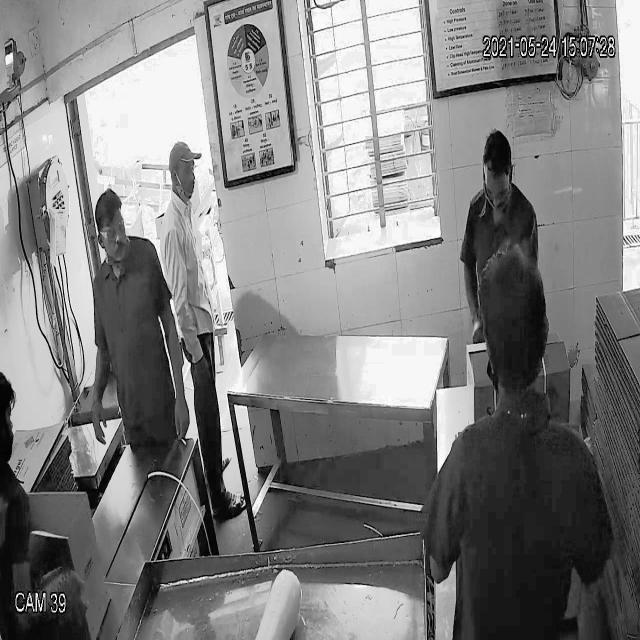glasses: (92, 216, 128, 248), (480, 176, 512, 207)
